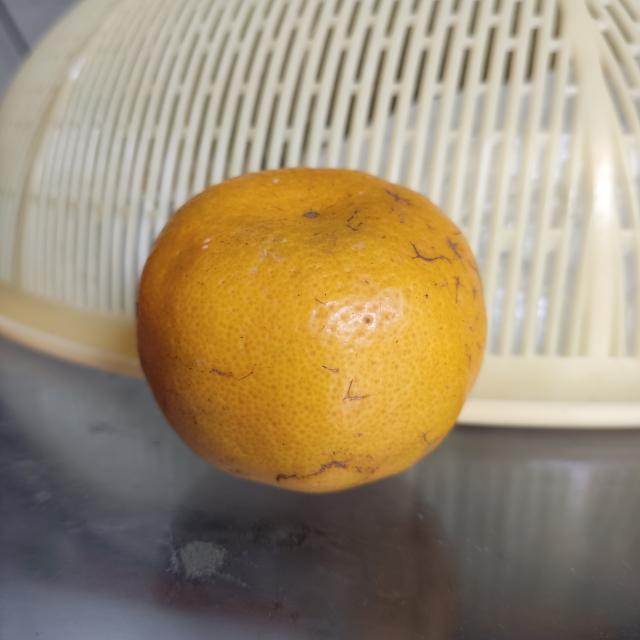orange: (130, 163, 492, 496)
